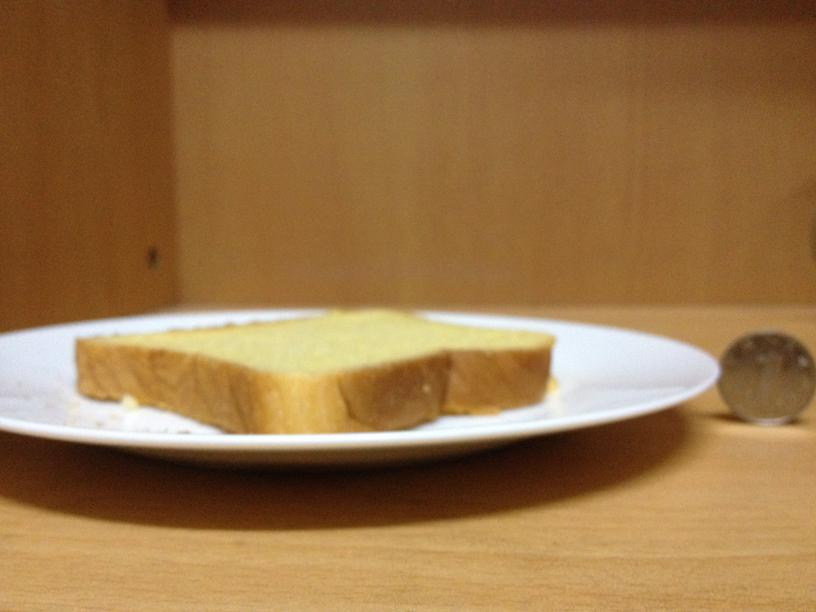bread: (66, 301, 554, 436)
coin: (718, 332, 816, 424)
